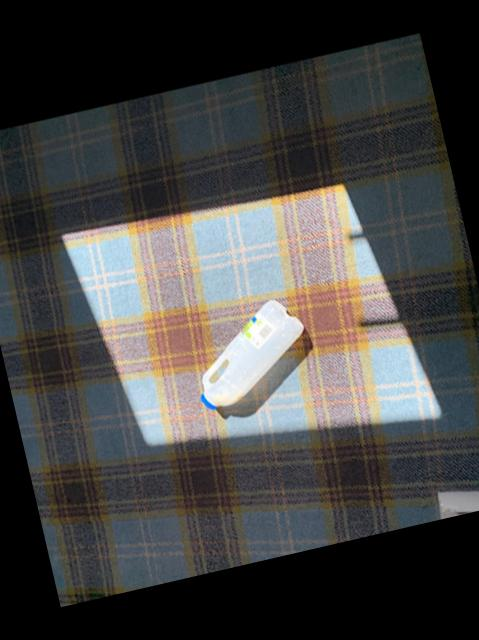plastic: (197, 299, 299, 408)
